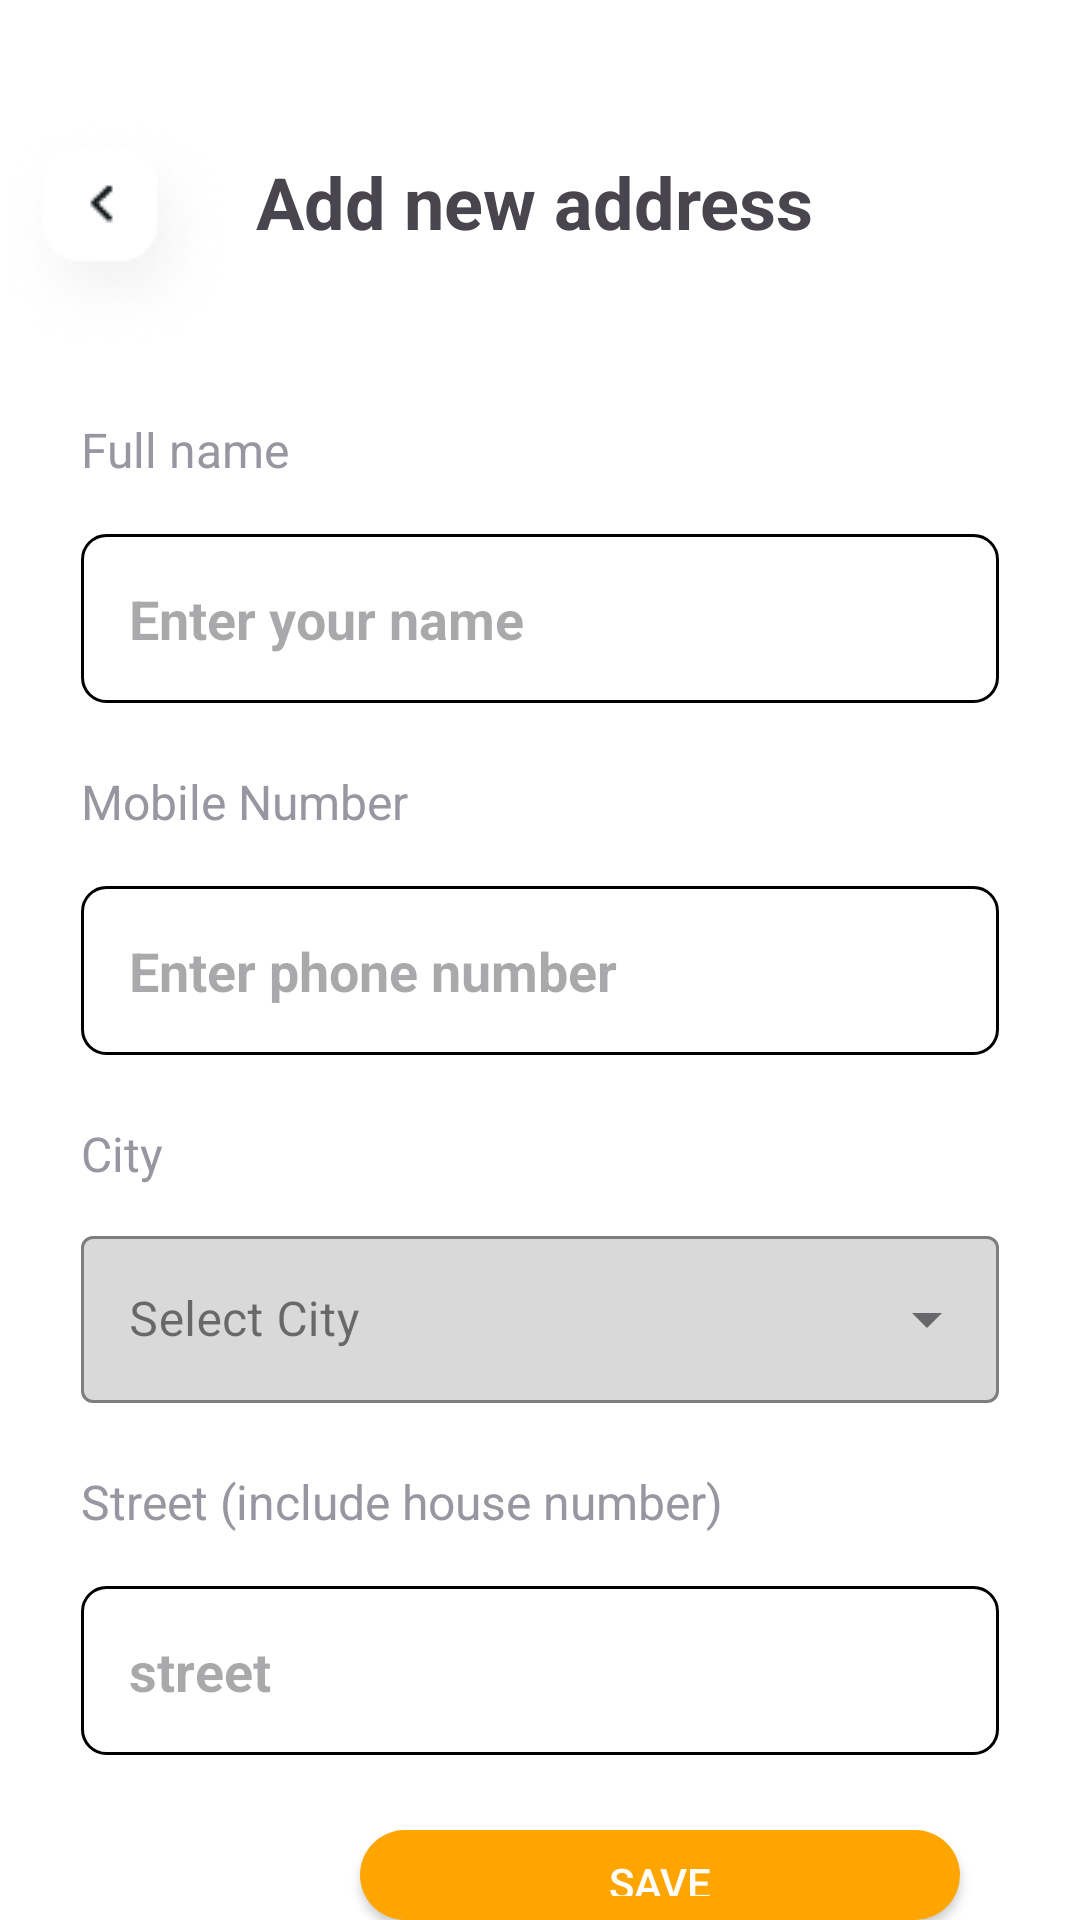

Named icons in this screenshot (1080*1920) and their centers, (x,y):
back: (101,204)
